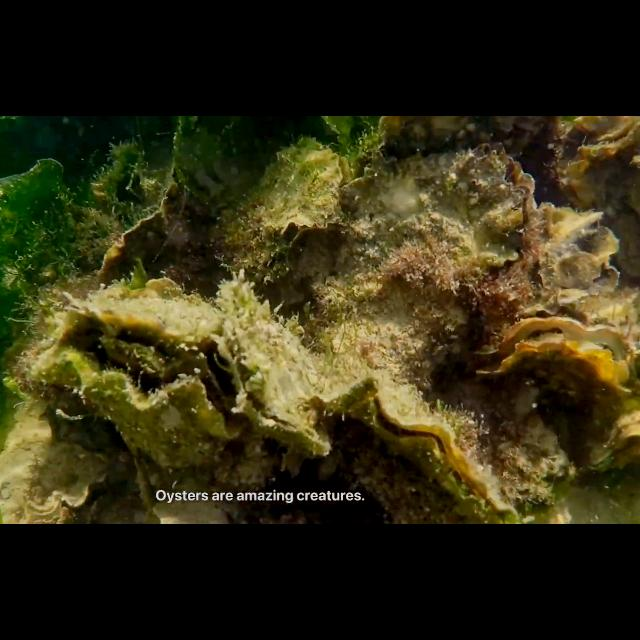Oyster-Closed: (97, 167, 221, 286)
Oyster-Open: (332, 142, 538, 388), (36, 298, 254, 470), (308, 373, 518, 525), (219, 278, 335, 460), (470, 317, 632, 407), (554, 115, 640, 282), (526, 202, 622, 316), (5, 440, 116, 524), (262, 147, 344, 250), (208, 186, 292, 284), (121, 429, 171, 525), (586, 411, 640, 475)
